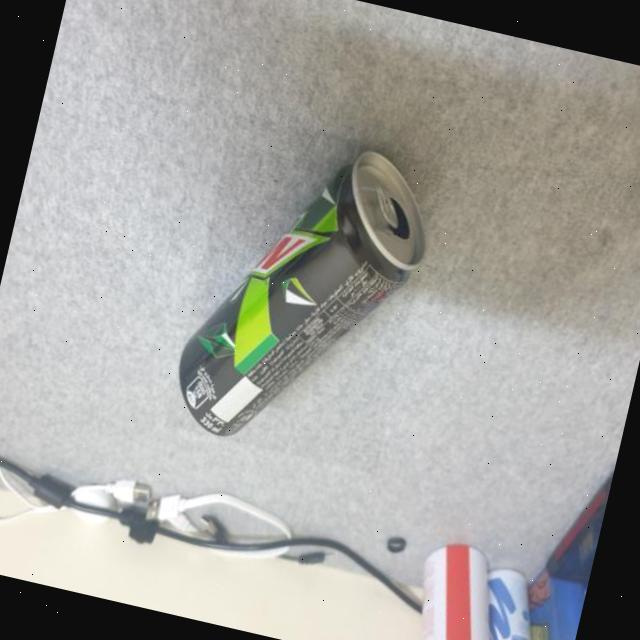trash: (156, 111, 447, 479)
